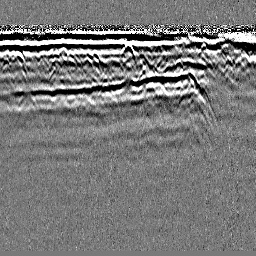cavity: (119, 40, 135, 58)
